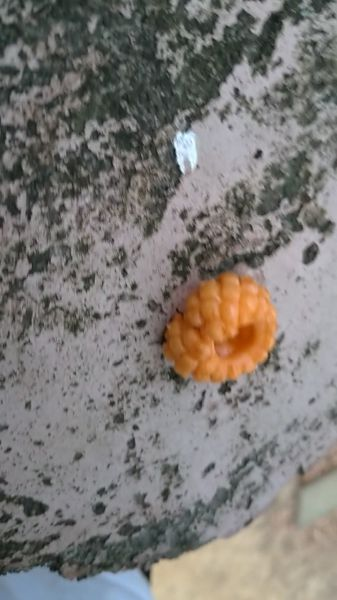eggs: (159, 266, 283, 387)
